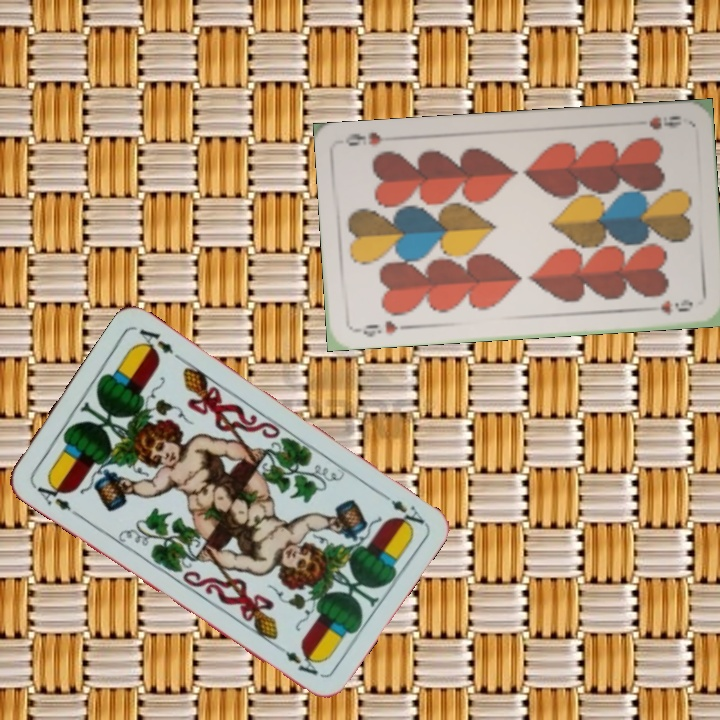EA: (374, 487, 427, 532), (28, 476, 74, 514)
H9: (351, 317, 400, 339), (645, 111, 685, 132)
